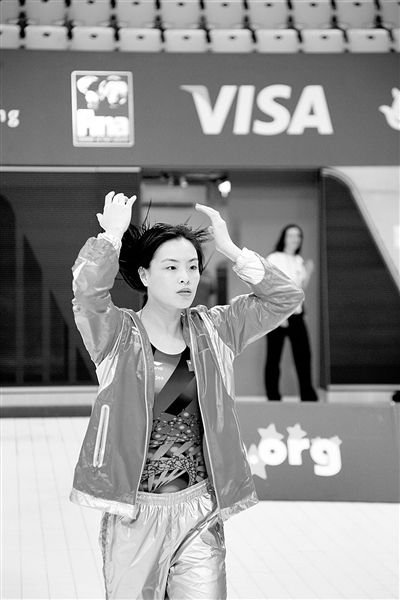handsup: (61, 186, 294, 592)
